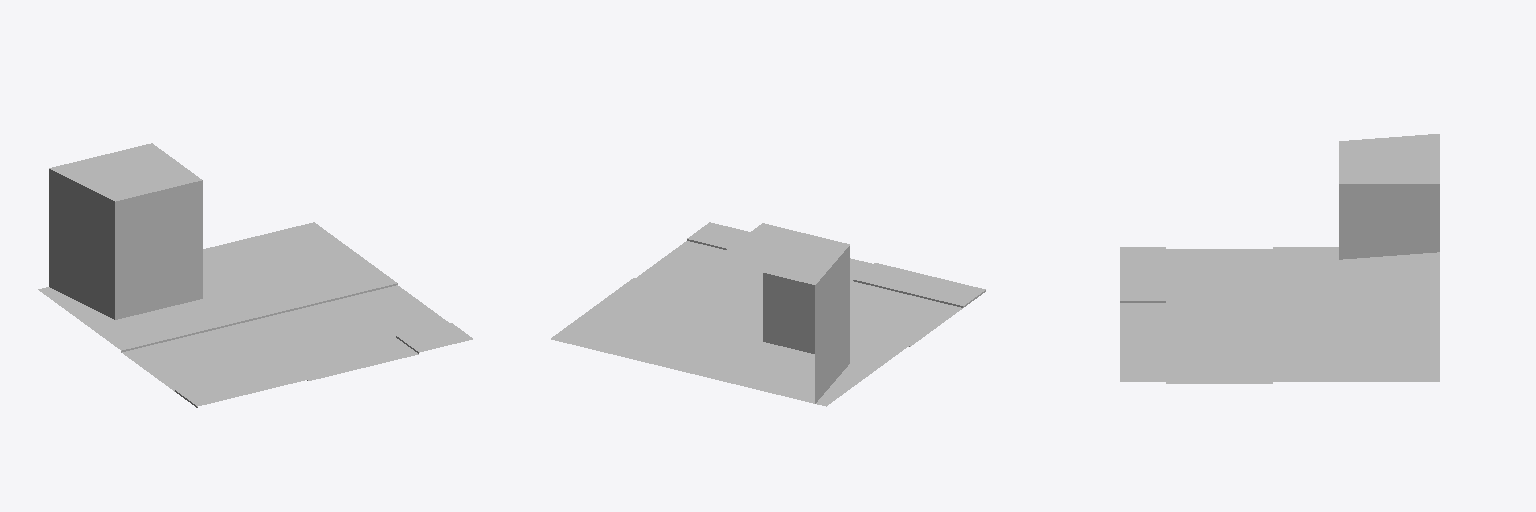
File: 04_sept_r.obj
The picture shows the model from 3 angles: view 1: azimuth 30°, elevation 25°; view 2: azimuth 150°, elevation 25°; view 3: azimuth 270°, elevation 25°; orthographic projection.
Visible parts, largest first — view 1: 04_sept_r_Grid.002; view 2: 04_sept_r_Grid.002; view 3: 04_sept_r_Grid.002.
Boxes of the visible parts, x1=… form: 04_sept_r_Grid.002: x1=38, y1=143, x2=472, y2=407; 04_sept_r_Grid.002: x1=551, y1=222, x2=985, y2=406; 04_sept_r_Grid.002: x1=1120, y1=134, x2=1439, y2=383.
Size of the model in its own units: 15.98 by 6.65 by 16.